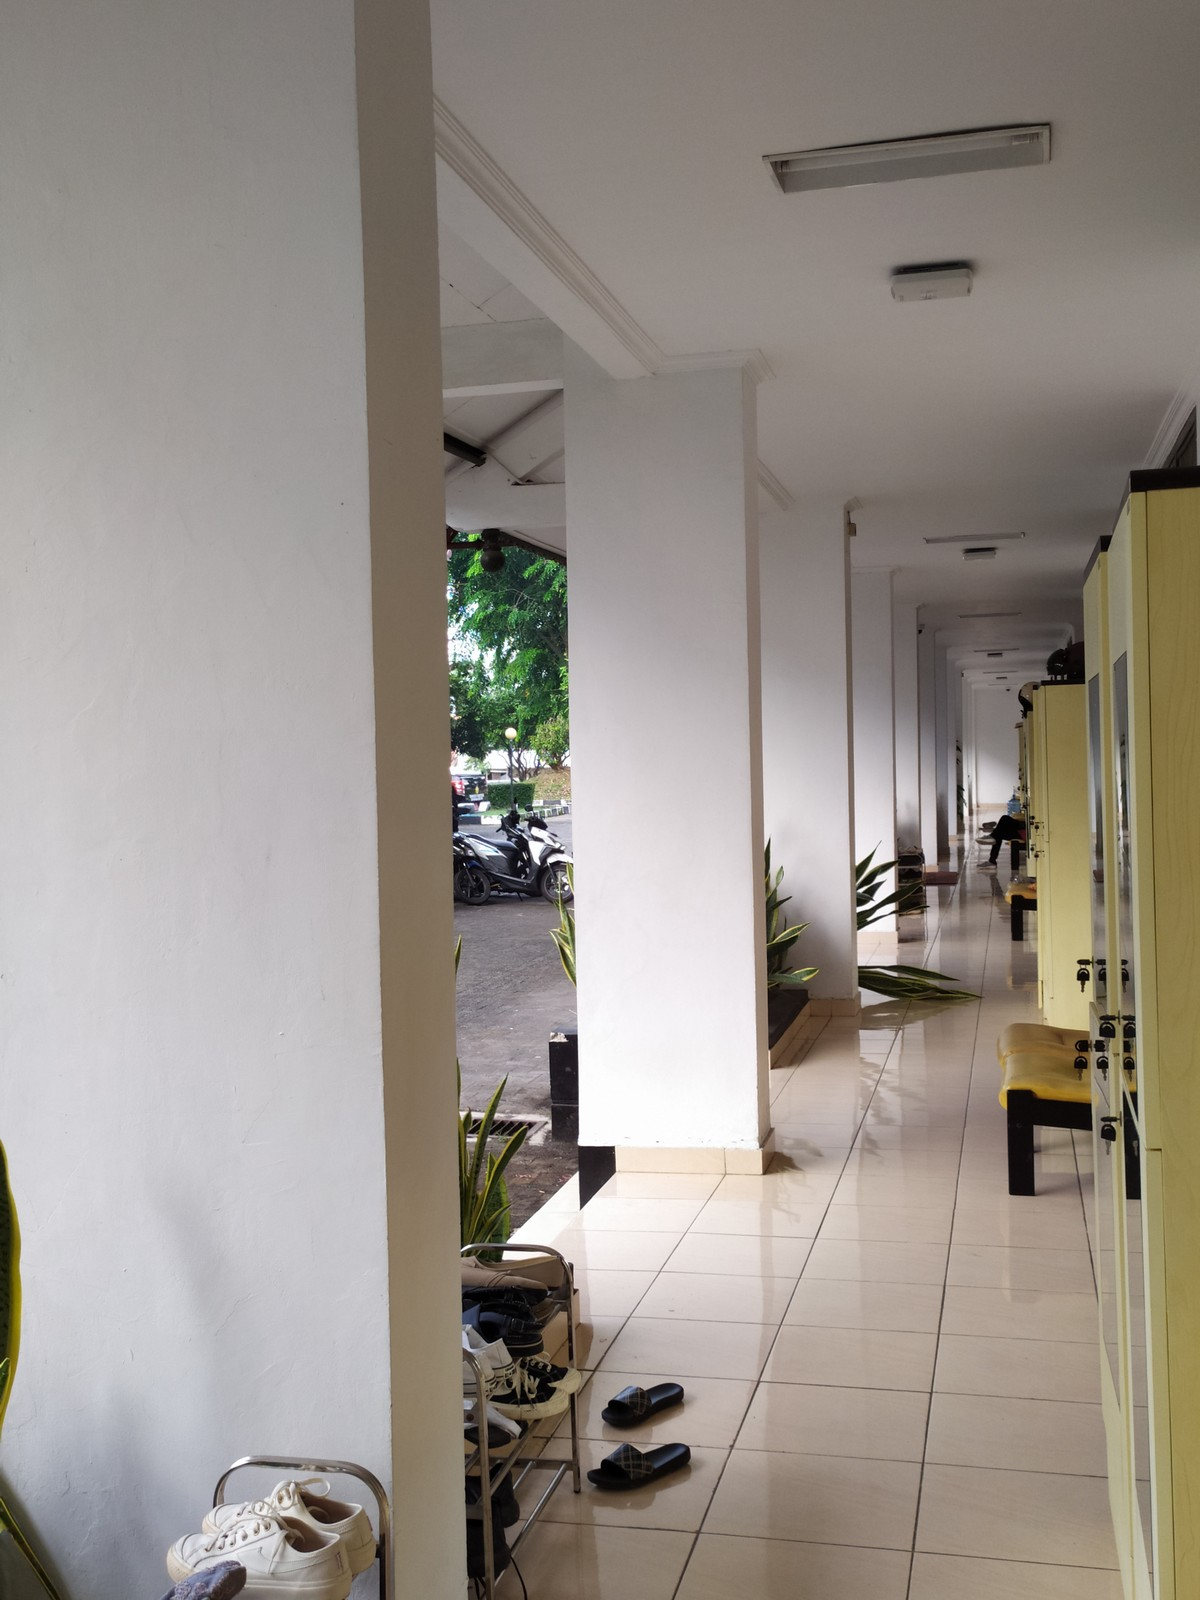concrete beam: (444, 312, 572, 408)
concrete column: (10, 8, 476, 1538), (550, 348, 787, 1191), (751, 477, 872, 1029)
